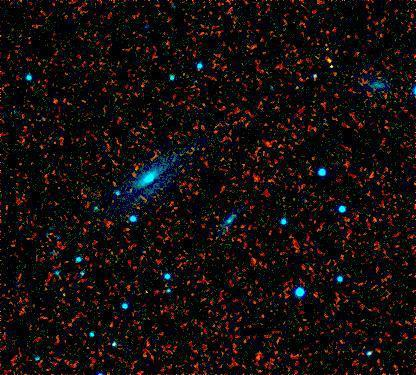star: (314, 48, 344, 78)
